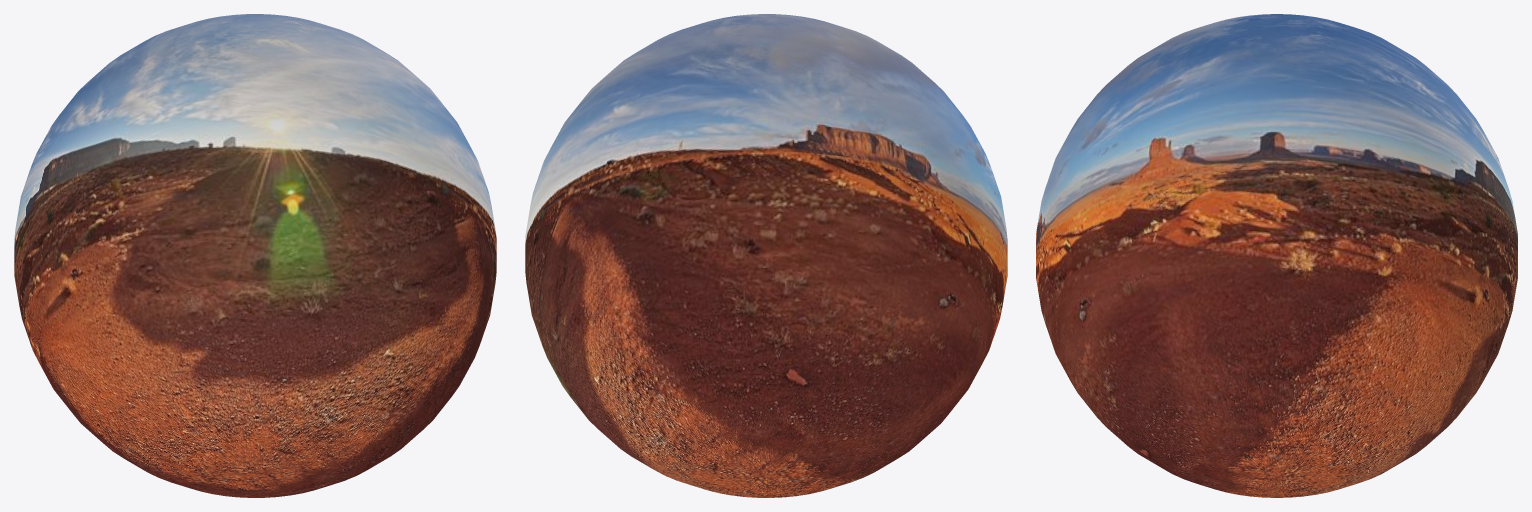
The model's file is sky_pano_-_monument_valley_lookout.glb.
3 views of the same model, side by side, from view 1: azimuth 30°, elevation 25°; view 2: azimuth 150°, elevation 25°; view 3: azimuth 270°, elevation 25° (orthographic).
Parts seen in each view (by area): view 1: PanoSphere; view 2: PanoSphere; view 3: PanoSphere.
Part boxes in pixels (x1,y1,x2,y2): PanoSphere: (14, 14, 496, 497); PanoSphere: (525, 14, 1007, 497); PanoSphere: (1036, 14, 1517, 497).
Size of the model in its own units: 9.97 by 10 by 9.95.
Materials: 1 (1 with a texture image).
